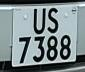3: (32, 35, 47, 64)
7: (16, 34, 32, 66)
8: (59, 33, 72, 62), (46, 35, 59, 63)
S: (46, 7, 61, 36)
U: (32, 6, 46, 37)
